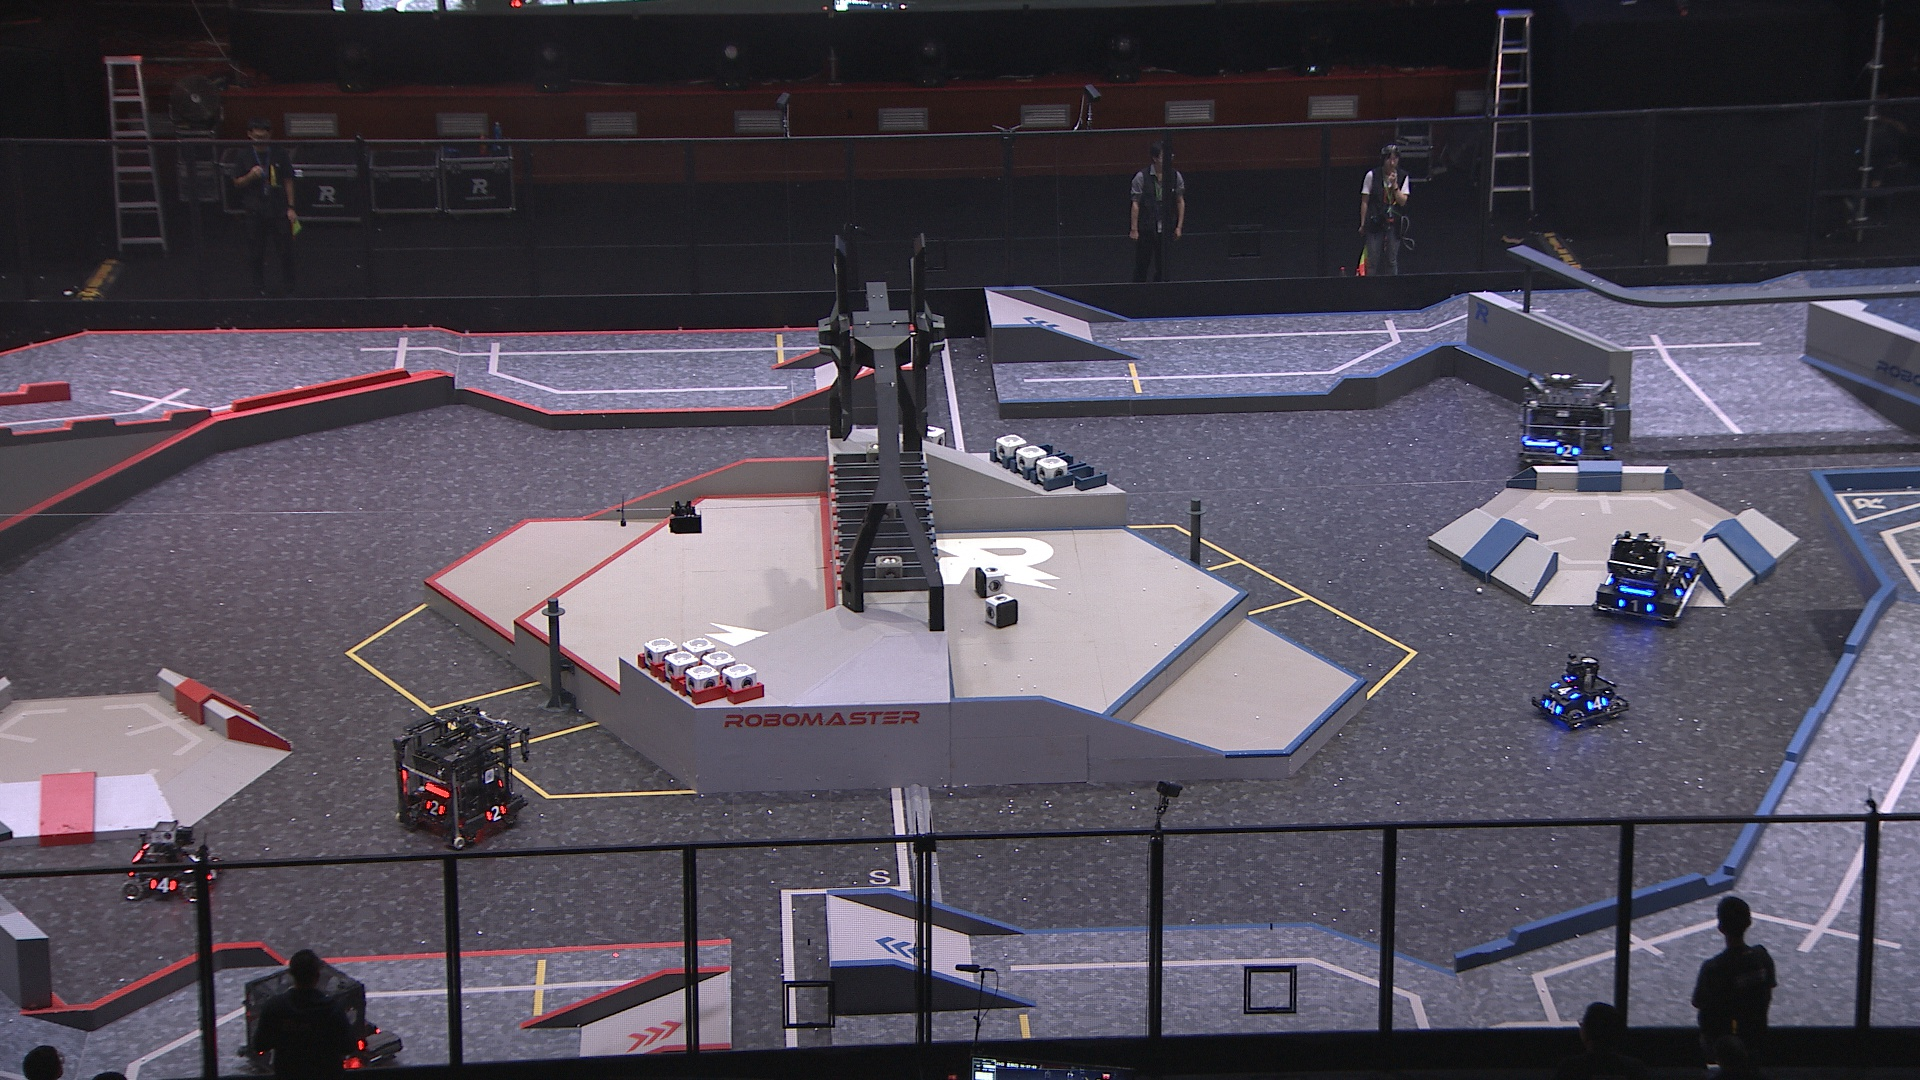armor: (1621, 599, 1660, 617), (1549, 683, 1582, 702), (148, 877, 181, 893), (1584, 694, 1610, 713), (1673, 571, 1692, 597), (1553, 443, 1580, 462), (422, 800, 448, 818), (261, 1046, 280, 1069), (485, 804, 508, 823), (1543, 698, 1565, 716), (204, 868, 220, 884)
car: (237, 955, 401, 1080), (390, 703, 533, 847), (1518, 372, 1625, 476), (1593, 531, 1702, 626), (123, 820, 225, 905), (1534, 655, 1631, 731)
